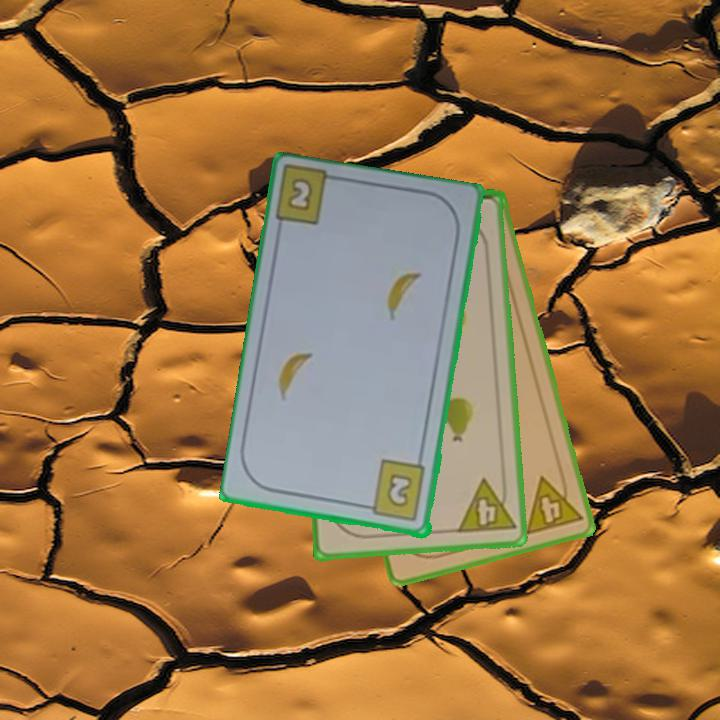2b: (360, 457, 429, 525), (284, 174, 316, 215)
4p: (521, 468, 585, 538), (453, 474, 518, 537)
